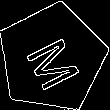M_NE: (19, 26, 85, 90)
